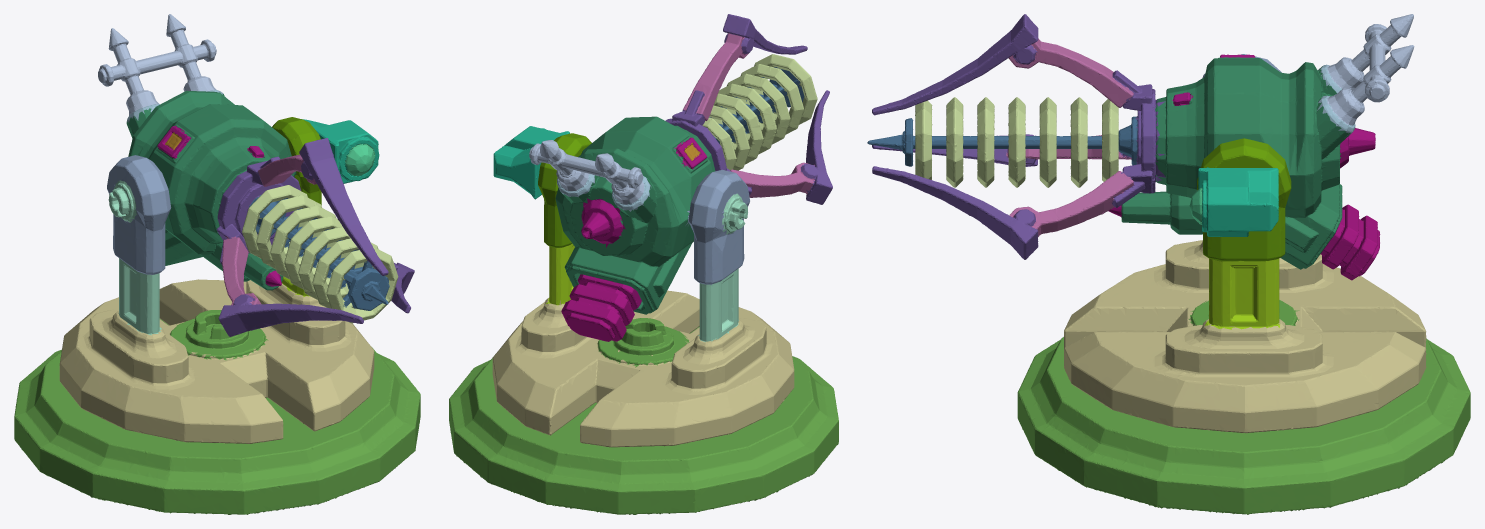
3 renders of one model, left to right at view 1: azimuth 30°, elevation 25°; view 2: azimuth 150°, elevation 25°; view 3: azimuth 270°, elevation 25°, orthographic. The views are drawn at different scales.
Parts seen in each view (by area): view 1: world; view 2: world; view 3: world.
Boxes of the visible parts, x1,y1,x2,y2 form: world: (14, 14, 420, 514); world: (449, 14, 838, 514); world: (867, 14, 1470, 514).
Size of the model in its own units: 1.43 by 1.4 by 1.91.
